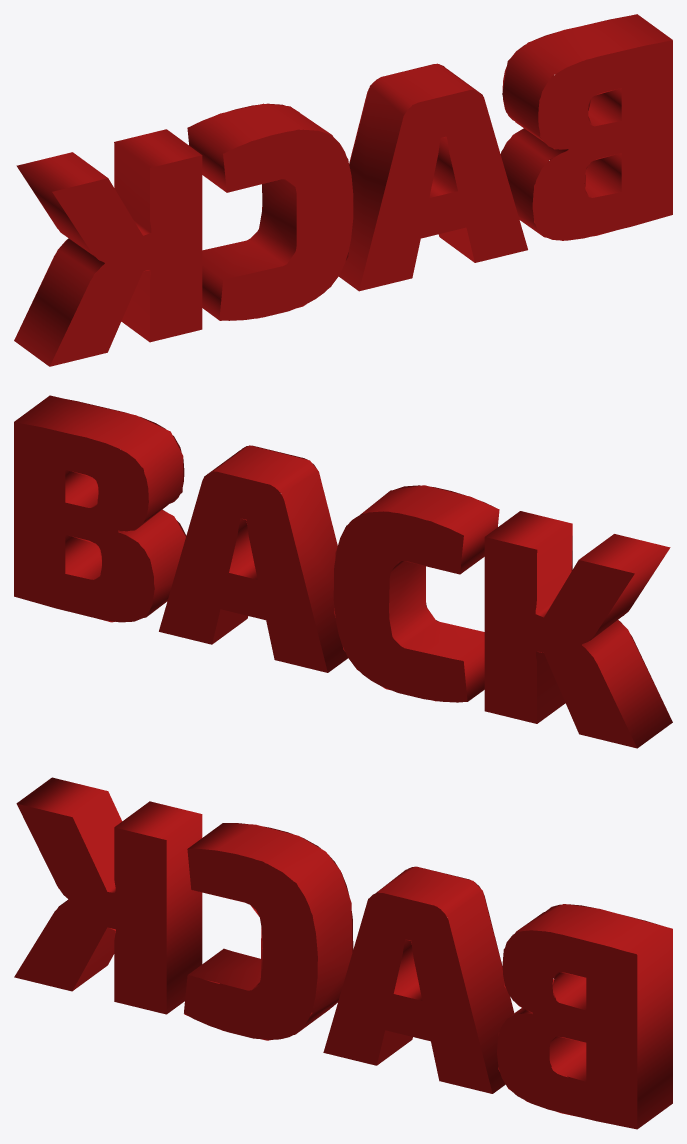
Rendered from back.fbx.
The picture shows the model from 3 angles, top to bottom: view 1: azimuth 30°, elevation 25°; view 2: azimuth 150°, elevation 25°; view 3: azimuth 330°, elevation 25°; orthographic projection.
Parts seen in each view (by area): view 1: Text; view 2: Text; view 3: Text.
Part boxes in pixels (box(x1,y1,x2,y2)): Text: box(14, 14, 672, 366); Text: box(14, 395, 672, 748); Text: box(14, 777, 672, 1129).
Size of the model in its own units: 8.08 by 2.23 by 0.8.
